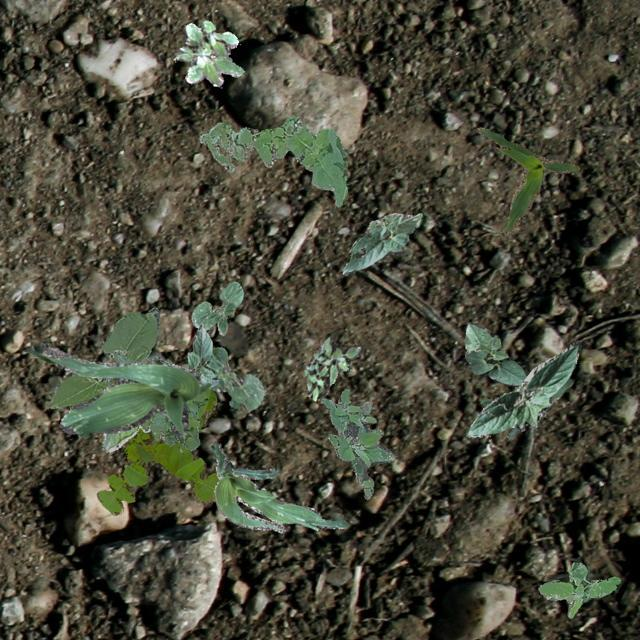crop: (26, 342, 210, 438), (48, 306, 158, 452), (210, 441, 346, 532), (464, 340, 580, 436), (476, 127, 578, 236), (480, 376, 572, 438), (342, 212, 422, 274), (464, 320, 526, 386), (205, 346, 262, 410), (190, 280, 242, 334), (185, 323, 218, 388)
weed: (96, 388, 218, 514), (198, 114, 346, 206), (112, 350, 206, 450), (320, 388, 394, 498), (172, 20, 244, 86), (536, 560, 620, 616), (304, 336, 362, 400)
